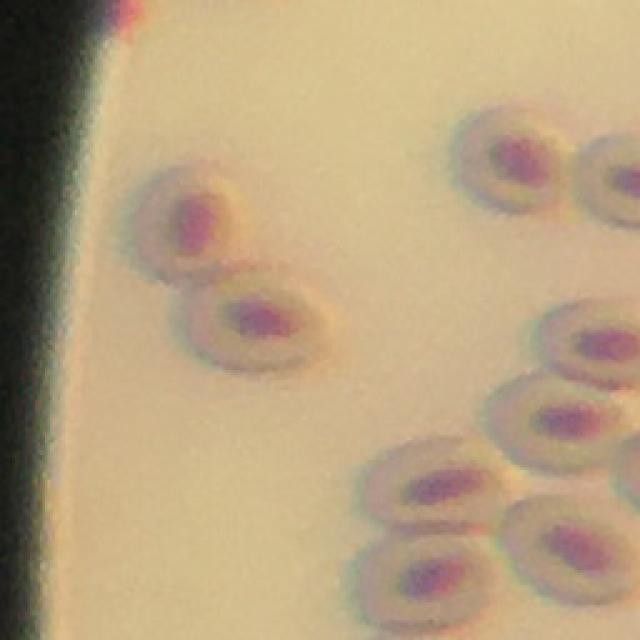RBC: (178, 258, 349, 380), (126, 162, 260, 289), (496, 493, 640, 608), (478, 370, 631, 477), (354, 532, 506, 638), (356, 434, 511, 529), (450, 99, 574, 215), (532, 297, 640, 391), (574, 125, 640, 228)
